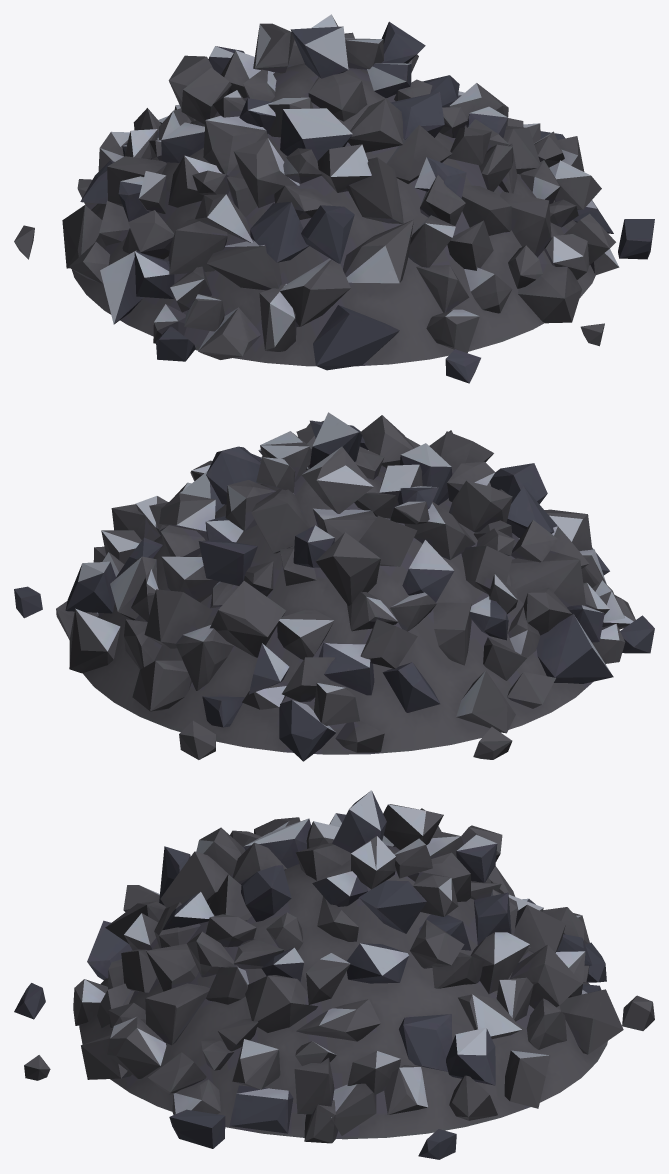
The model's file is coal-pile.glb.
3 renders of one model, top to bottom at view 1: azimuth 30°, elevation 25°; view 2: azimuth 150°, elevation 25°; view 3: azimuth 270°, elevation 25°, orthographic.
Visible parts, largest first — view 1: coal-pile_body; view 2: coal-pile_body; view 3: coal-pile_body.
Boxes of the visible parts, <box> form: coal-pile_body: <box>14,14,654,383</box>; coal-pile_body: <box>14,412,654,761</box>; coal-pile_body: <box>14,790,654,1159</box>.
Bounding box in the file's own units: 0.8379 × 0.3431 × 0.8928.
1 material, 1 textured.
